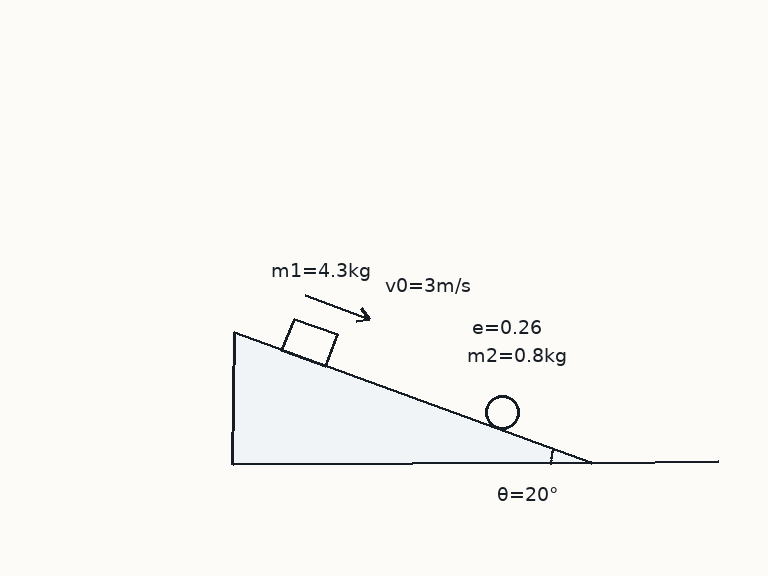ball: (483, 393, 521, 431)
block: (280, 317, 339, 368)
ramp: (231, 331, 593, 465)
